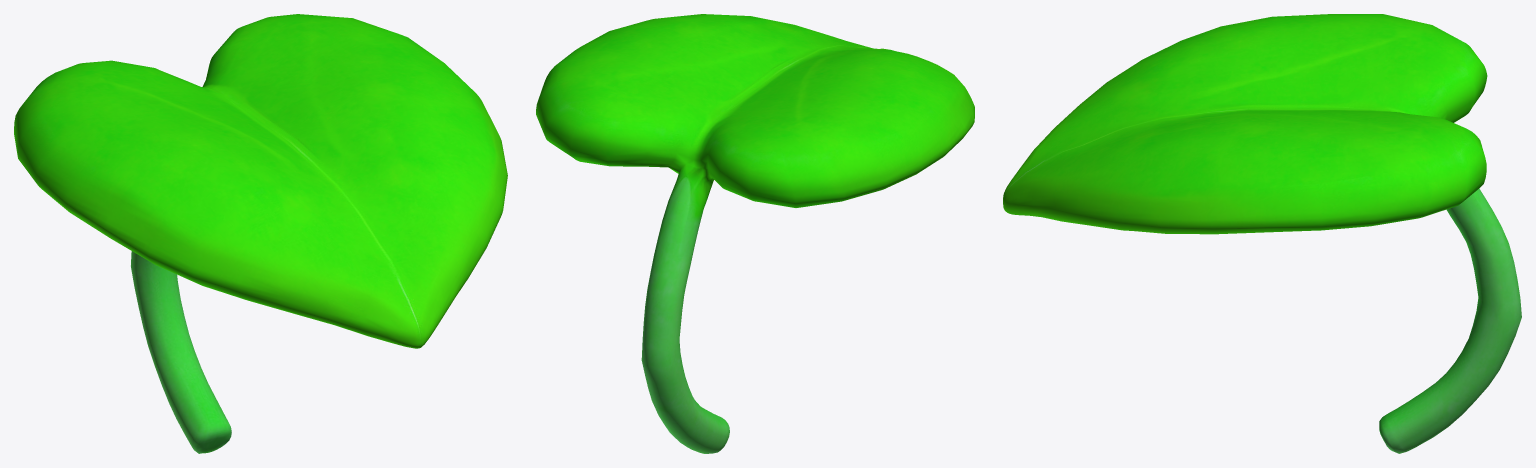
The model's file is heart_lime_2672_0_v1.glb.
3 views of the same model, side by side, from view 1: azimuth 30°, elevation 25°; view 2: azimuth 150°, elevation 25°; view 3: azimuth 270°, elevation 25° (orthographic). The views are drawn at different scales.
Visible parts, largest first — view 1: world; view 2: world; view 3: world.
Part boxes in pixels (x1=…): world: x1=14, y1=14, x2=507, y2=453; world: x1=536, y1=14, x2=974, y2=453; world: x1=1003, y1=14, x2=1521, y2=453.
Size of the model in its own units: 1.71 by 1.57 by 2.
Materials: 1 (1 with a texture image).
